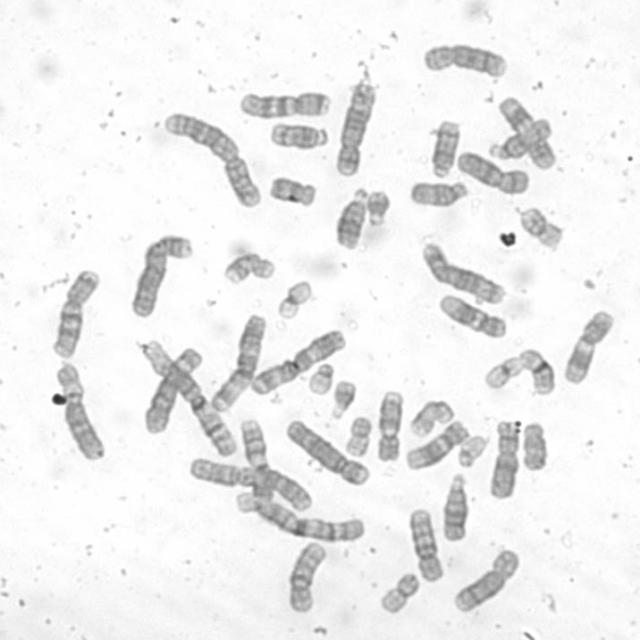A1: (133, 335, 240, 460), (234, 489, 368, 543)
A2: (160, 108, 264, 210), (184, 454, 315, 514)
A3: (246, 324, 350, 396), (207, 309, 268, 414)
B4: (282, 416, 372, 487), (128, 230, 196, 321)
B5: (418, 238, 508, 307), (331, 76, 379, 178)
C10: (283, 538, 330, 615), (403, 504, 445, 584)
C11: (494, 90, 558, 170), (558, 306, 616, 386)
C12: (401, 417, 471, 472), (434, 291, 510, 340)
C6: (140, 344, 206, 436), (50, 359, 108, 462)
C7: (46, 266, 103, 360), (235, 87, 333, 119)
C8: (450, 545, 522, 615), (418, 40, 509, 79)
C9: (236, 415, 274, 503), (373, 387, 406, 463)
D13: (331, 185, 371, 252), (439, 471, 471, 544)
D14: (426, 117, 462, 179), (265, 121, 330, 152)
D15: (486, 113, 555, 162), (407, 178, 469, 208)
E16: (514, 205, 563, 250), (516, 344, 558, 396)
E17: (405, 396, 457, 438), (221, 248, 277, 287)
E18: (266, 174, 318, 208), (521, 421, 550, 472)
F19: (274, 277, 314, 320), (480, 352, 524, 390)
F20: (375, 569, 421, 616), (342, 412, 373, 458)
G21: (327, 376, 359, 420), (363, 187, 392, 229)
G22: (455, 430, 488, 468), (304, 358, 336, 396)
X: (452, 147, 531, 196), (485, 416, 522, 500)
